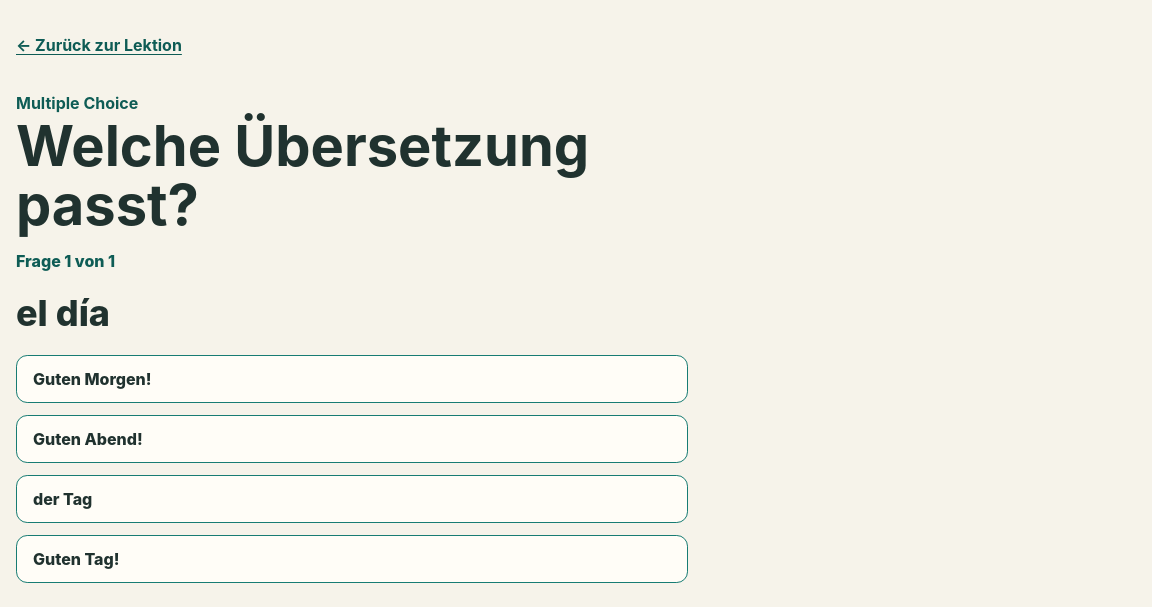
Test: MultipleChoiceMode › resumes at its saved index and clears a completed session with a summary
Click the button "der Tag". click: (63, 499)
box: [16,475,688,523]
(page scrolled)
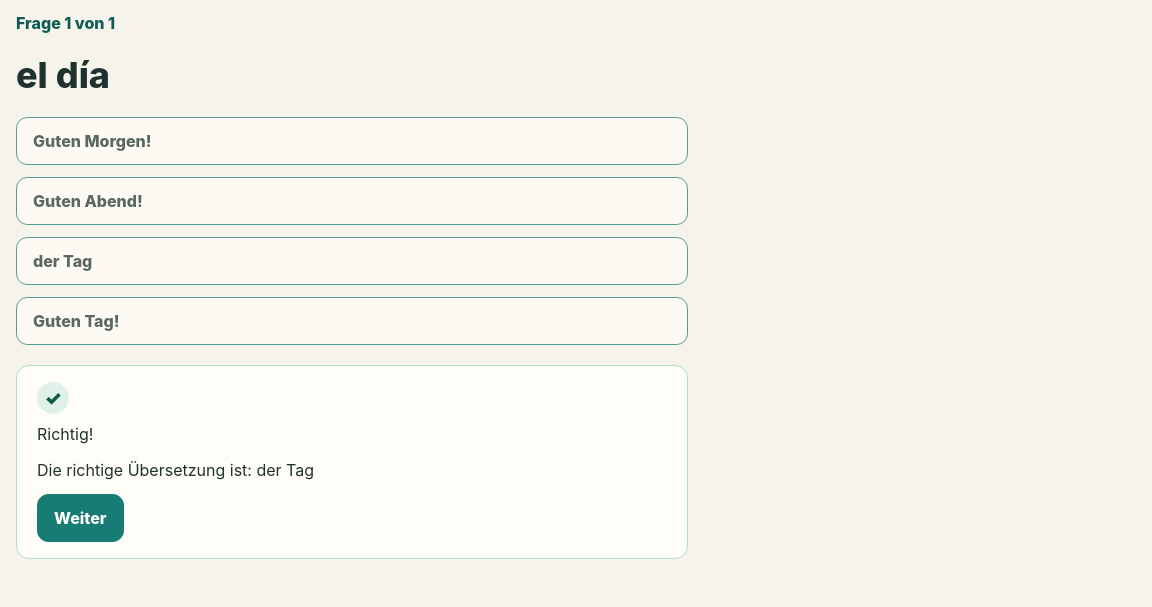
Click the button "Weiter". click: (80, 518)
box: [37,494,124,542]
(page scrolled)
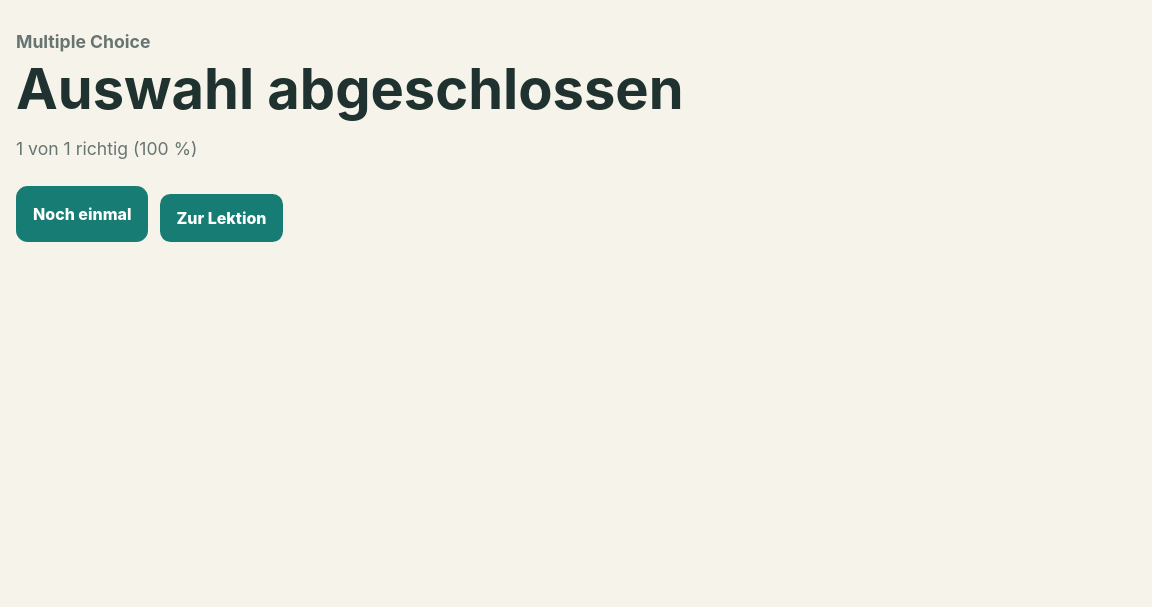
Result: the heading "Auswahl abgeschlossen" is shown at [16,60,688,118]
Result: the text "1 von 1 richtig (100 %)" is shown at [16,138,197,159]
